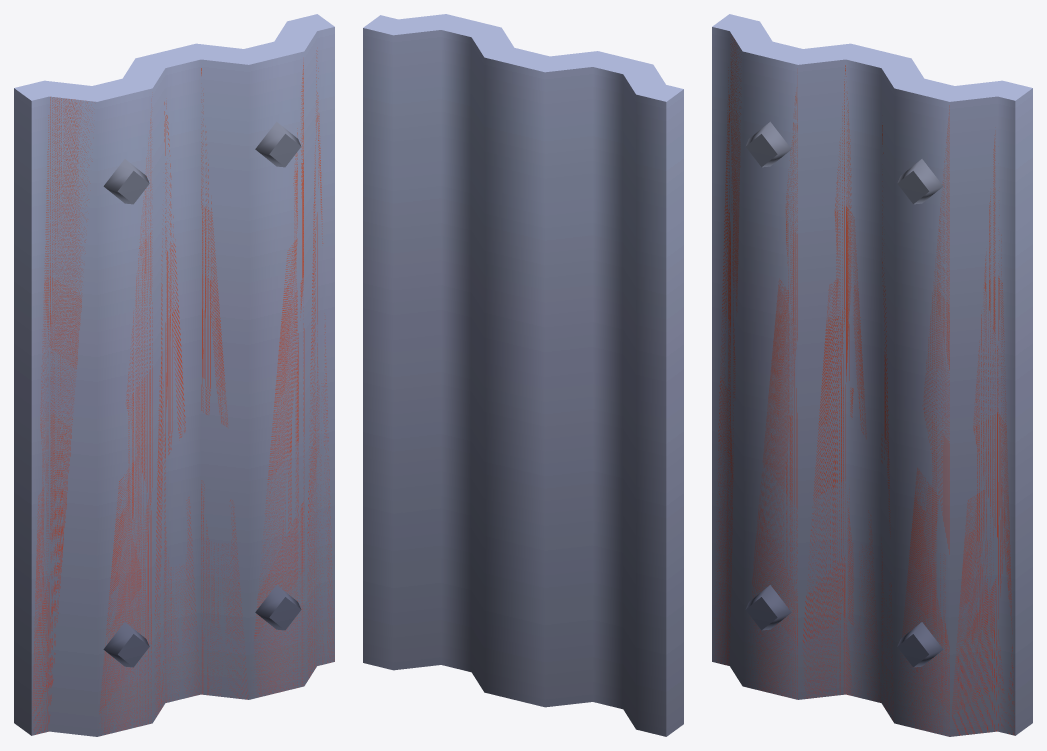
Rendered from metal-panel-screws-narrow.glb.
3 renders of one model, left to right at view 1: azimuth 30°, elevation 25°; view 2: azimuth 150°, elevation 25°; view 3: azimuth 330°, elevation 25°, orthographic.
Visible parts, largest first — view 1: metal-panel-screws-narrow; view 2: metal-panel-screws-narrow; view 3: metal-panel-screws-narrow.
Part boxes in pixels (box(x1,y1,x2,y2)): metal-panel-screws-narrow: box(14, 14, 334, 736); metal-panel-screws-narrow: box(363, 14, 683, 736); metal-panel-screws-narrow: box(712, 14, 1032, 736).
Size of the model in its own units: 0.25 by 0.5 by 0.0625.
1 material, 1 textured.
